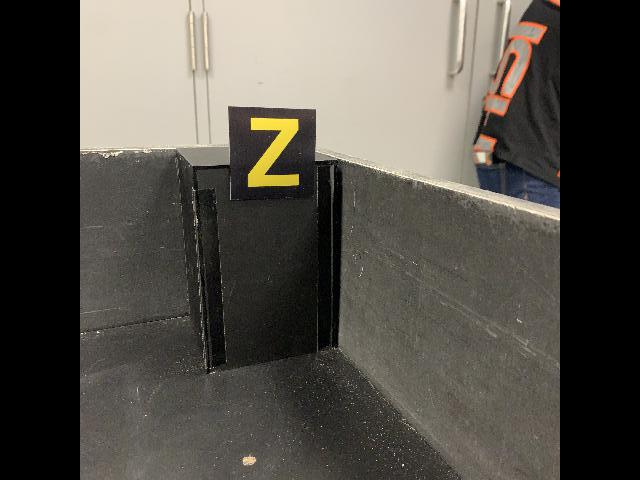z: (227, 104, 317, 201)
